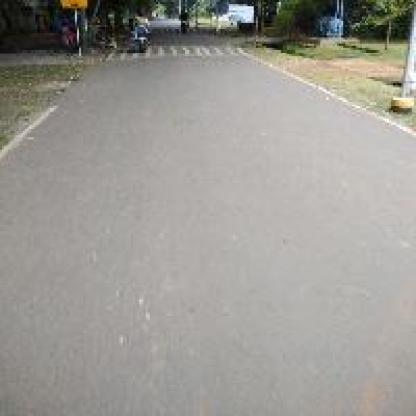Speed Bump: (150, 40, 248, 61)
